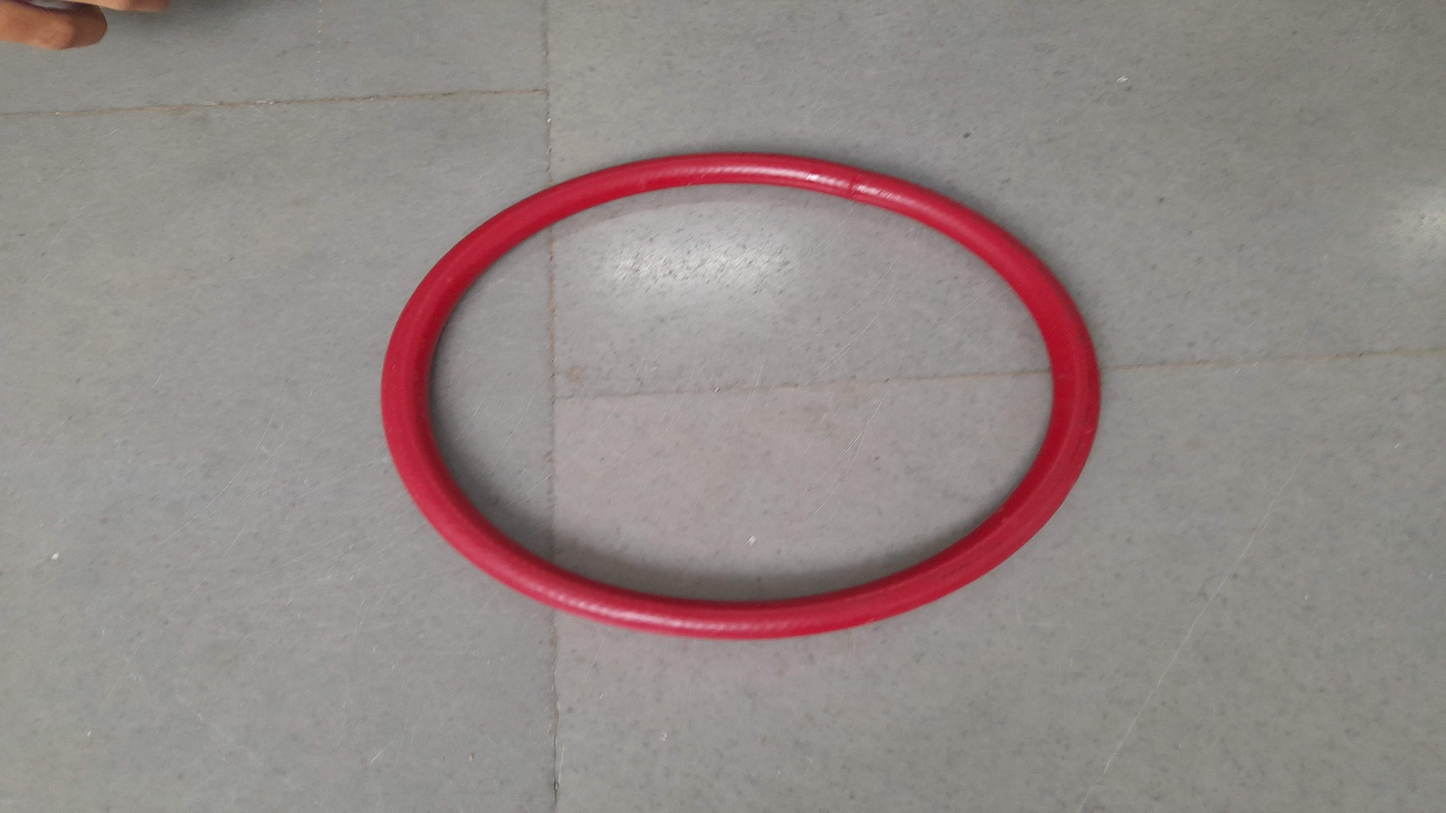Red ring: (382, 154, 1103, 635)
